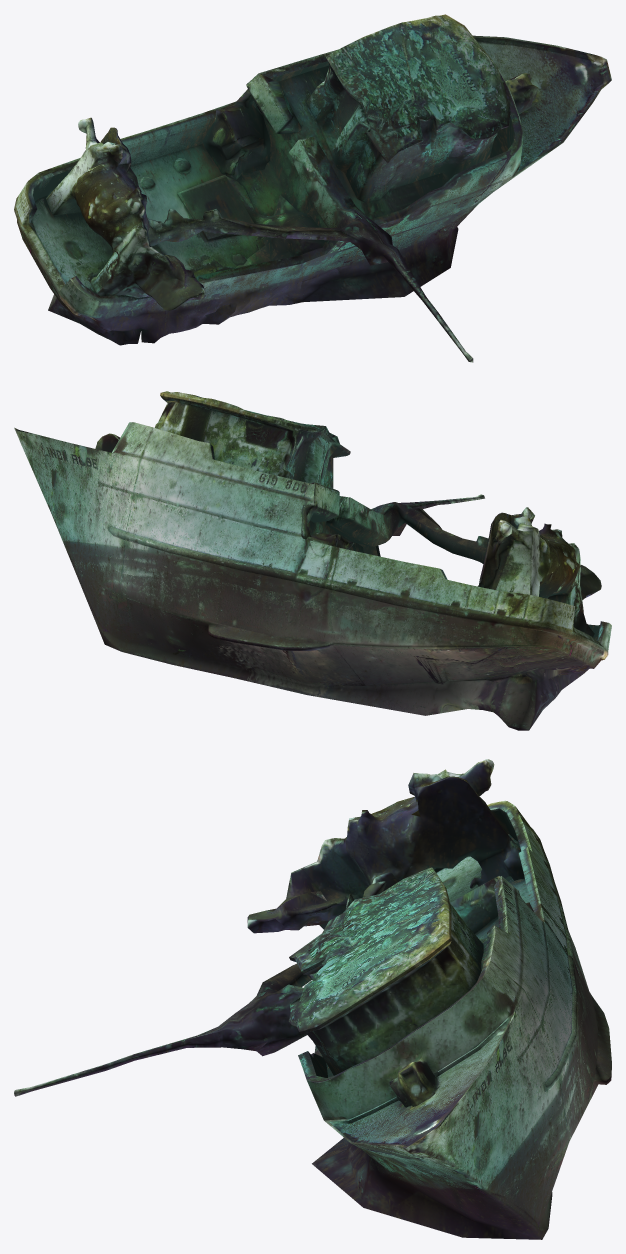
File: sunkenship.dae
The picture shows the model from 3 angles, top to bottom: view 1: azimuth 30°, elevation 25°; view 2: azimuth 150°, elevation 25°; view 3: azimuth 270°, elevation 25°; orthographic projection. The views are drawn at different scales.
Visible parts, largest first — view 1: SunkenShip; view 2: SunkenShip; view 3: SunkenShip.
Boxes of the visible parts, x1=… form: SunkenShip: x1=14, y1=14, x2=611, y2=362; SunkenShip: x1=14, y1=391, x2=611, y2=730; SunkenShip: x1=14, y1=759, x2=611, y2=1239.
Bounding box in the file's own units: 1690 × 1200 × 661.
1 material, 1 textured.
